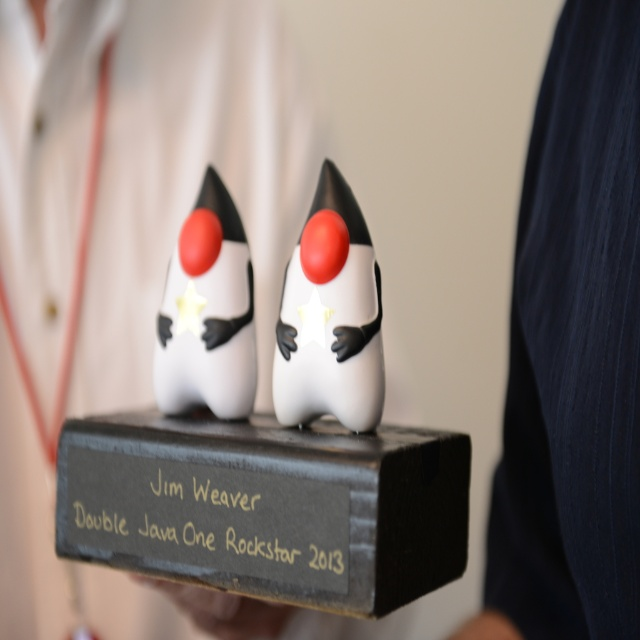Penguin: (255, 164, 394, 415), (157, 165, 259, 423)
